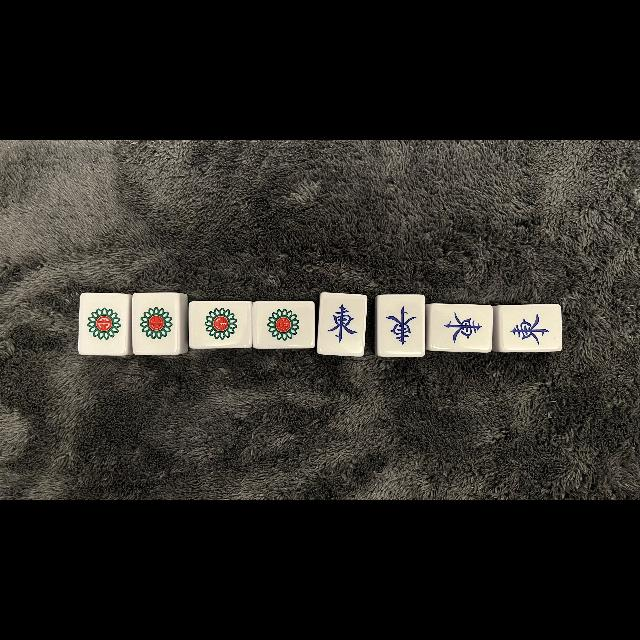d1: (80, 294, 126, 354), (191, 302, 251, 348), (254, 302, 314, 346), (134, 296, 178, 352)
we: (378, 294, 424, 356), (430, 306, 492, 350), (501, 306, 561, 350), (320, 294, 364, 352)
